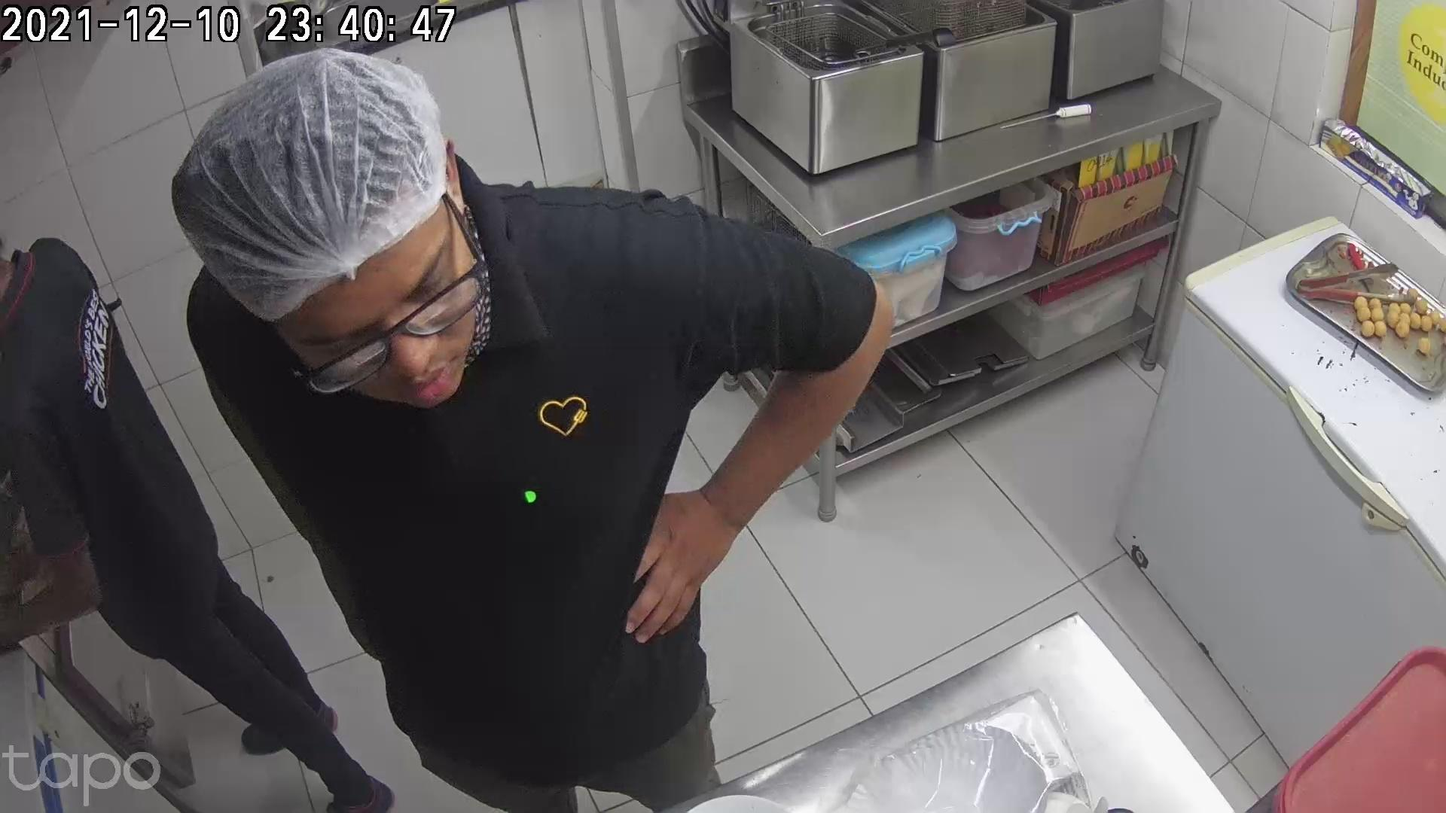no_gloves: (381, 662, 477, 783)
